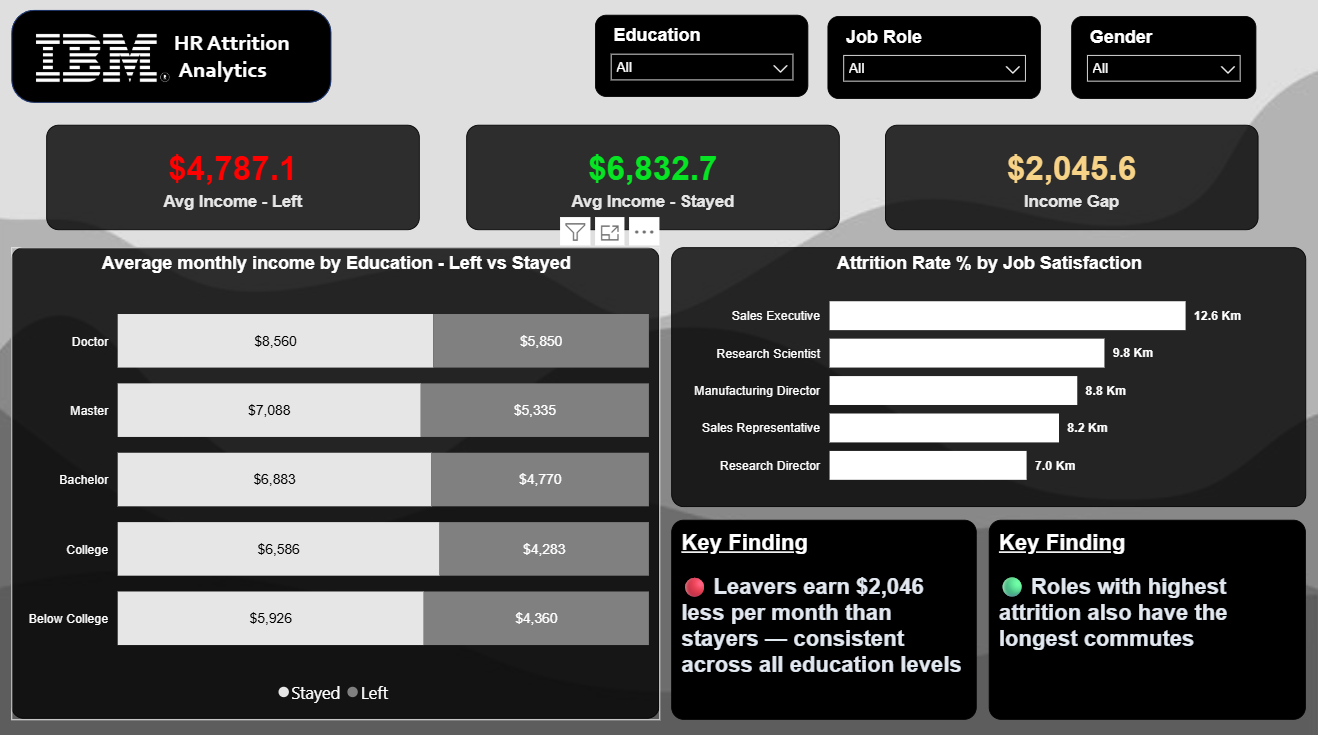

The dashboard page shown, as its layout file describes it:
{"tool":"powerbi","page":{"name":"Compensation & Risk","canvas":[1280,720],"ordinal":2},"visuals":[{"type":"shape","box":[15.9,13,308.7,89.9],"z":0},{"type":"image","box":[38.2,25,130.9,69.1],"z":1000},{"type":"slicer","fields":{"Values":["clean_hr_analytics.job_role"]},"box":[802.9,18.8,205.8,79.7],"z":2000},{"type":"slicer","fields":{"Values":["clean_hr_analytics.gender"]},"box":[1037.7,18.8,178.3,79.7],"z":3000},{"type":"textbox","box":[167.6,27.9,195.6,70.6],"z":4000},{"type":"slicer","fields":{"Values":["clean_hr_analytics.education"]},"box":[577.9,17.6,205.9,79.4],"z":5000},{"type":"clusteredBarChart","title":"Attrition Rate % by Job Satisfaction","fields":{"Category":["clean_hr_analytics.job_role"],"Y":["_Measures.Avg Distance Leavers"]},"box":[651.5,242.6,611.8,250],"z":6000},{"type":"card","fields":{"Values":["_Measures.Avg Tenure Leavers"]},"box":[50,123.5,360.3,101.5],"z":7000},{"type":"card","fields":{"Values":["_Measures.Avg Tenure Stayers"]},"box":[453.7,123.5,360.3,101.5],"z":8000},{"type":"card","fields":{"Values":["_Measures.Income Gap"]},"box":[857.4,123.5,360.3,101.5],"z":9000},{"type":"hundredPercentStackedBarChart","title":"Average monthly income by Education - Left vs Stayed","fields":{"Category":["clean_hr_analytics.education"],"Y":["_Measures.Avg Tenure Stayers","_Measures.Avg Income Leavers"]},"box":[16.2,242.6,625,454.4],"z":10000},{"type":"textbox","box":[651.5,504.4,294.1,192.6],"z":11000},{"type":"textbox","box":[957.4,504.4,305.9,192.6],"z":12000}]}

Visuals, with their boxes in screenshot pixels (x1, y1, x2, y2), scaled from the page's 1280x720 canvas onto the 1318x735 screenshot:
shape: {"x1": 16, "y1": 13, "x2": 334, "y2": 105}
image: {"x1": 39, "y1": 26, "x2": 174, "y2": 96}
slicer - clean_hr_analytics.job_role: {"x1": 827, "y1": 19, "x2": 1039, "y2": 101}
slicer - clean_hr_analytics.gender: {"x1": 1069, "y1": 19, "x2": 1252, "y2": 101}
textbox: {"x1": 173, "y1": 28, "x2": 374, "y2": 101}
slicer - clean_hr_analytics.education: {"x1": 595, "y1": 18, "x2": 807, "y2": 99}
"Attrition Rate % by Job Satisfaction" clusteredBarChart: {"x1": 671, "y1": 248, "x2": 1301, "y2": 503}
card - _Measures.Avg Tenure Leavers: {"x1": 51, "y1": 126, "x2": 422, "y2": 230}
card - _Measures.Avg Tenure Stayers: {"x1": 467, "y1": 126, "x2": 838, "y2": 230}
card - _Measures.Income Gap: {"x1": 883, "y1": 126, "x2": 1254, "y2": 230}
"Average monthly income by Education - Left vs Stayed" hundredPercentStackedBarChart: {"x1": 17, "y1": 248, "x2": 660, "y2": 712}
textbox: {"x1": 671, "y1": 515, "x2": 974, "y2": 712}
textbox: {"x1": 986, "y1": 515, "x2": 1301, "y2": 712}
